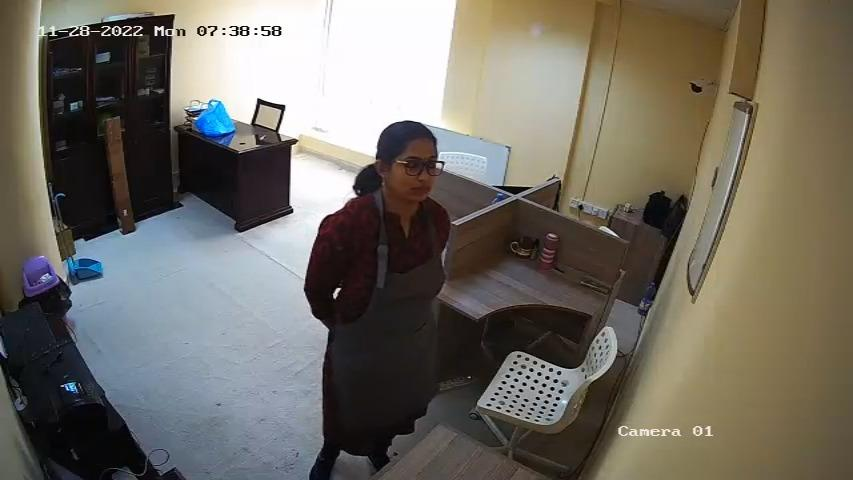apron: (324, 207, 439, 398)
